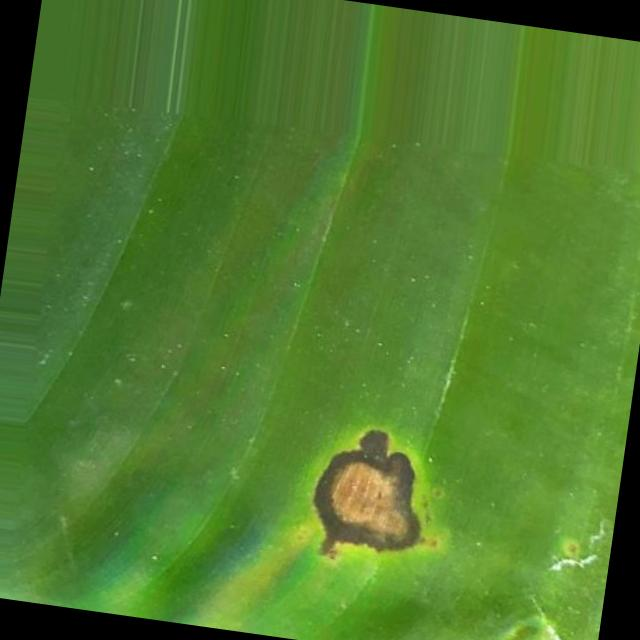Banana_Black_Sigatoka: (263, 388, 483, 614)
